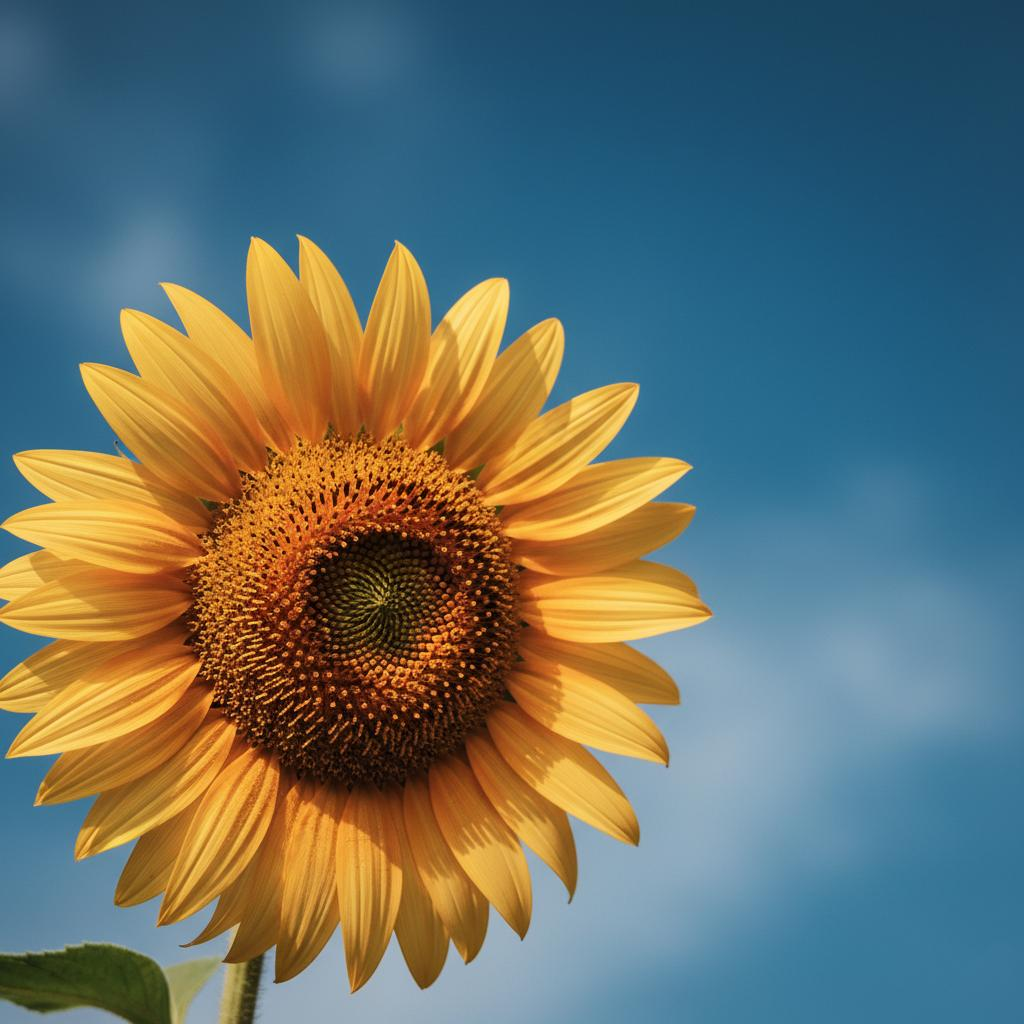sunflower: (0, 231, 713, 993)
